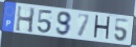5: (36, 9, 54, 35), (113, 17, 129, 43)
7: (76, 13, 90, 38)
9: (55, 11, 74, 37)
H: (14, 5, 37, 35), (92, 15, 112, 43)
